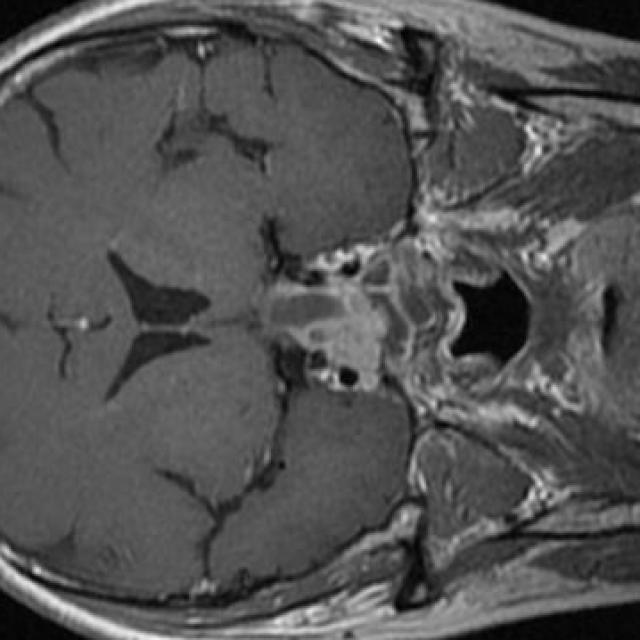pituitary: (267, 276, 398, 373)
